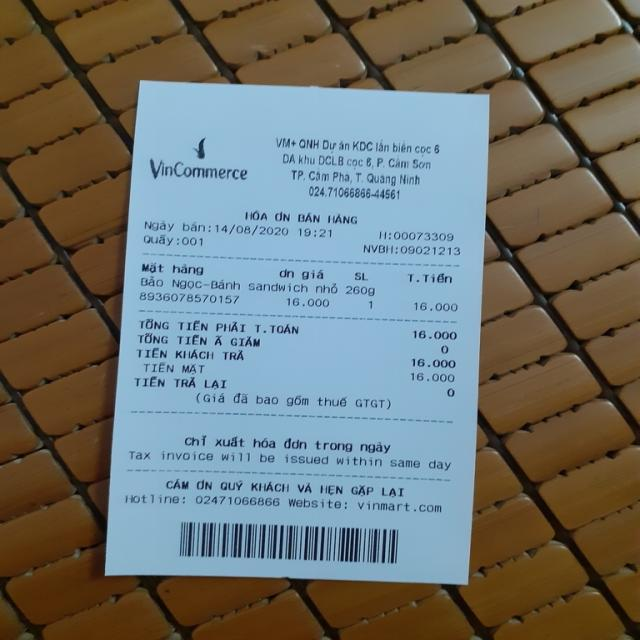Date: (213, 222, 291, 238)
Store_Name: (138, 158, 251, 188)
amount_number: (408, 329, 459, 341)
label_total: (134, 318, 306, 335)
